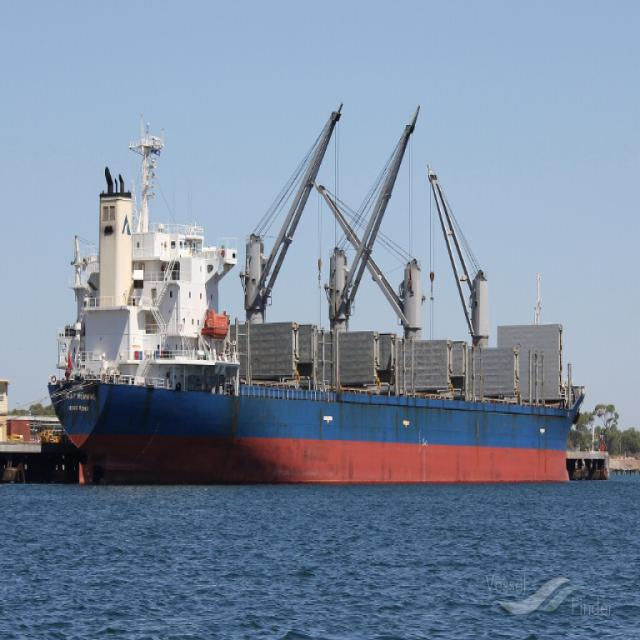OCR: (60, 386, 98, 419)
